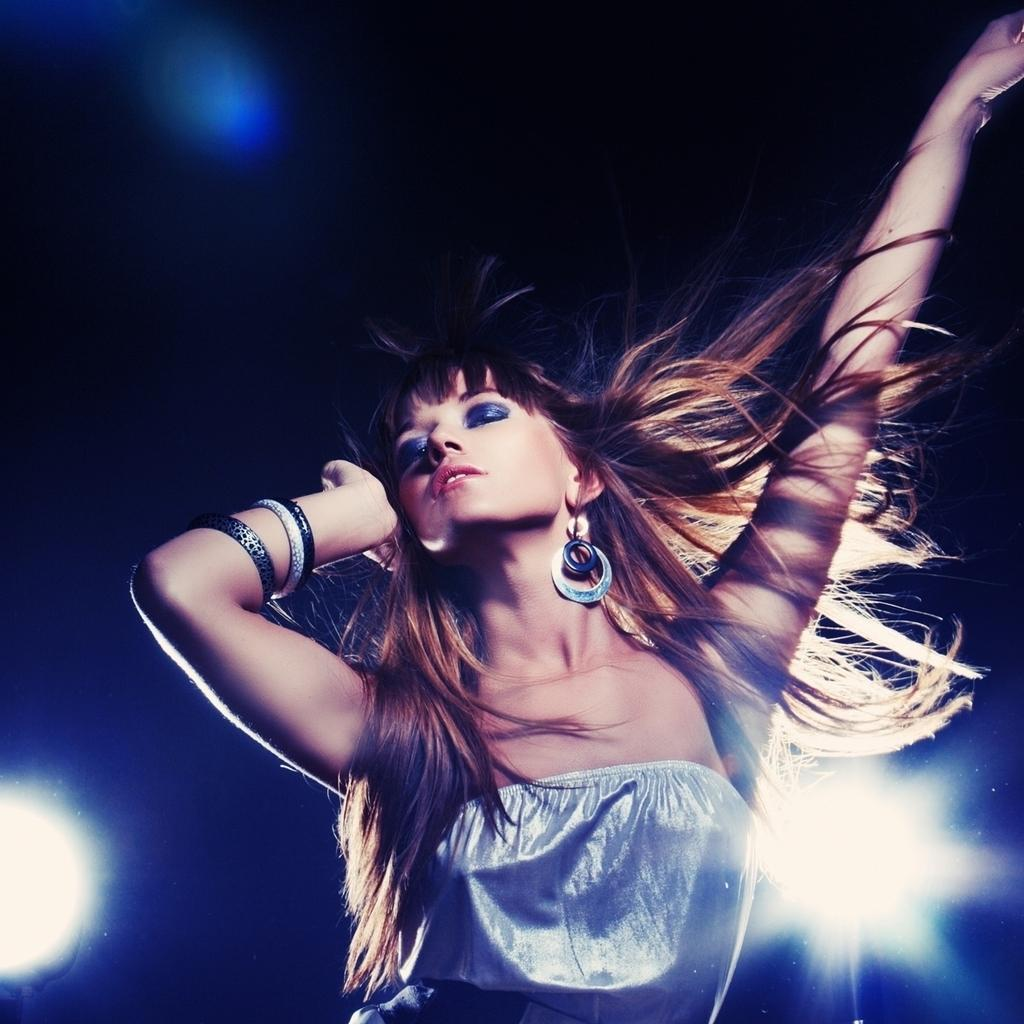face: (388, 378, 564, 538)
